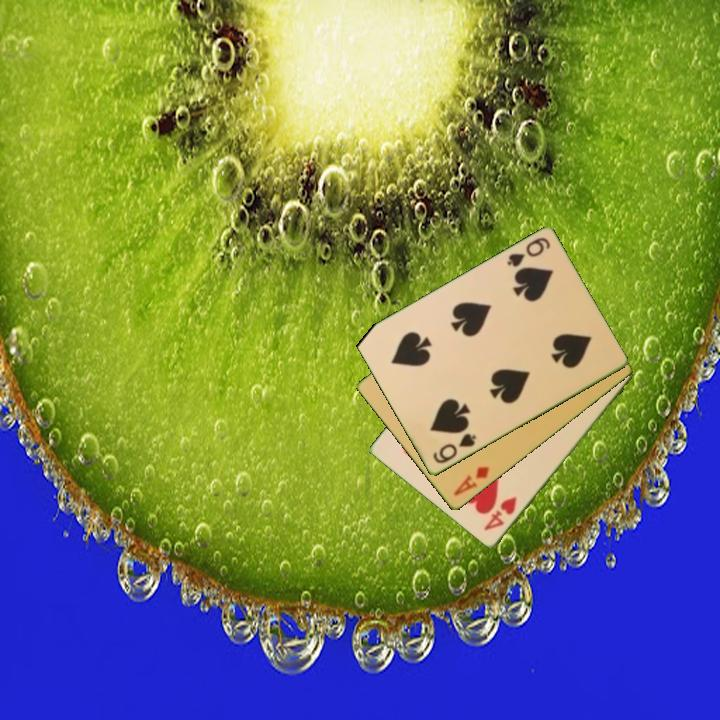4h: (480, 494, 520, 534)
6s: (429, 430, 479, 467), (503, 234, 553, 270)
Ad: (450, 463, 492, 499)
